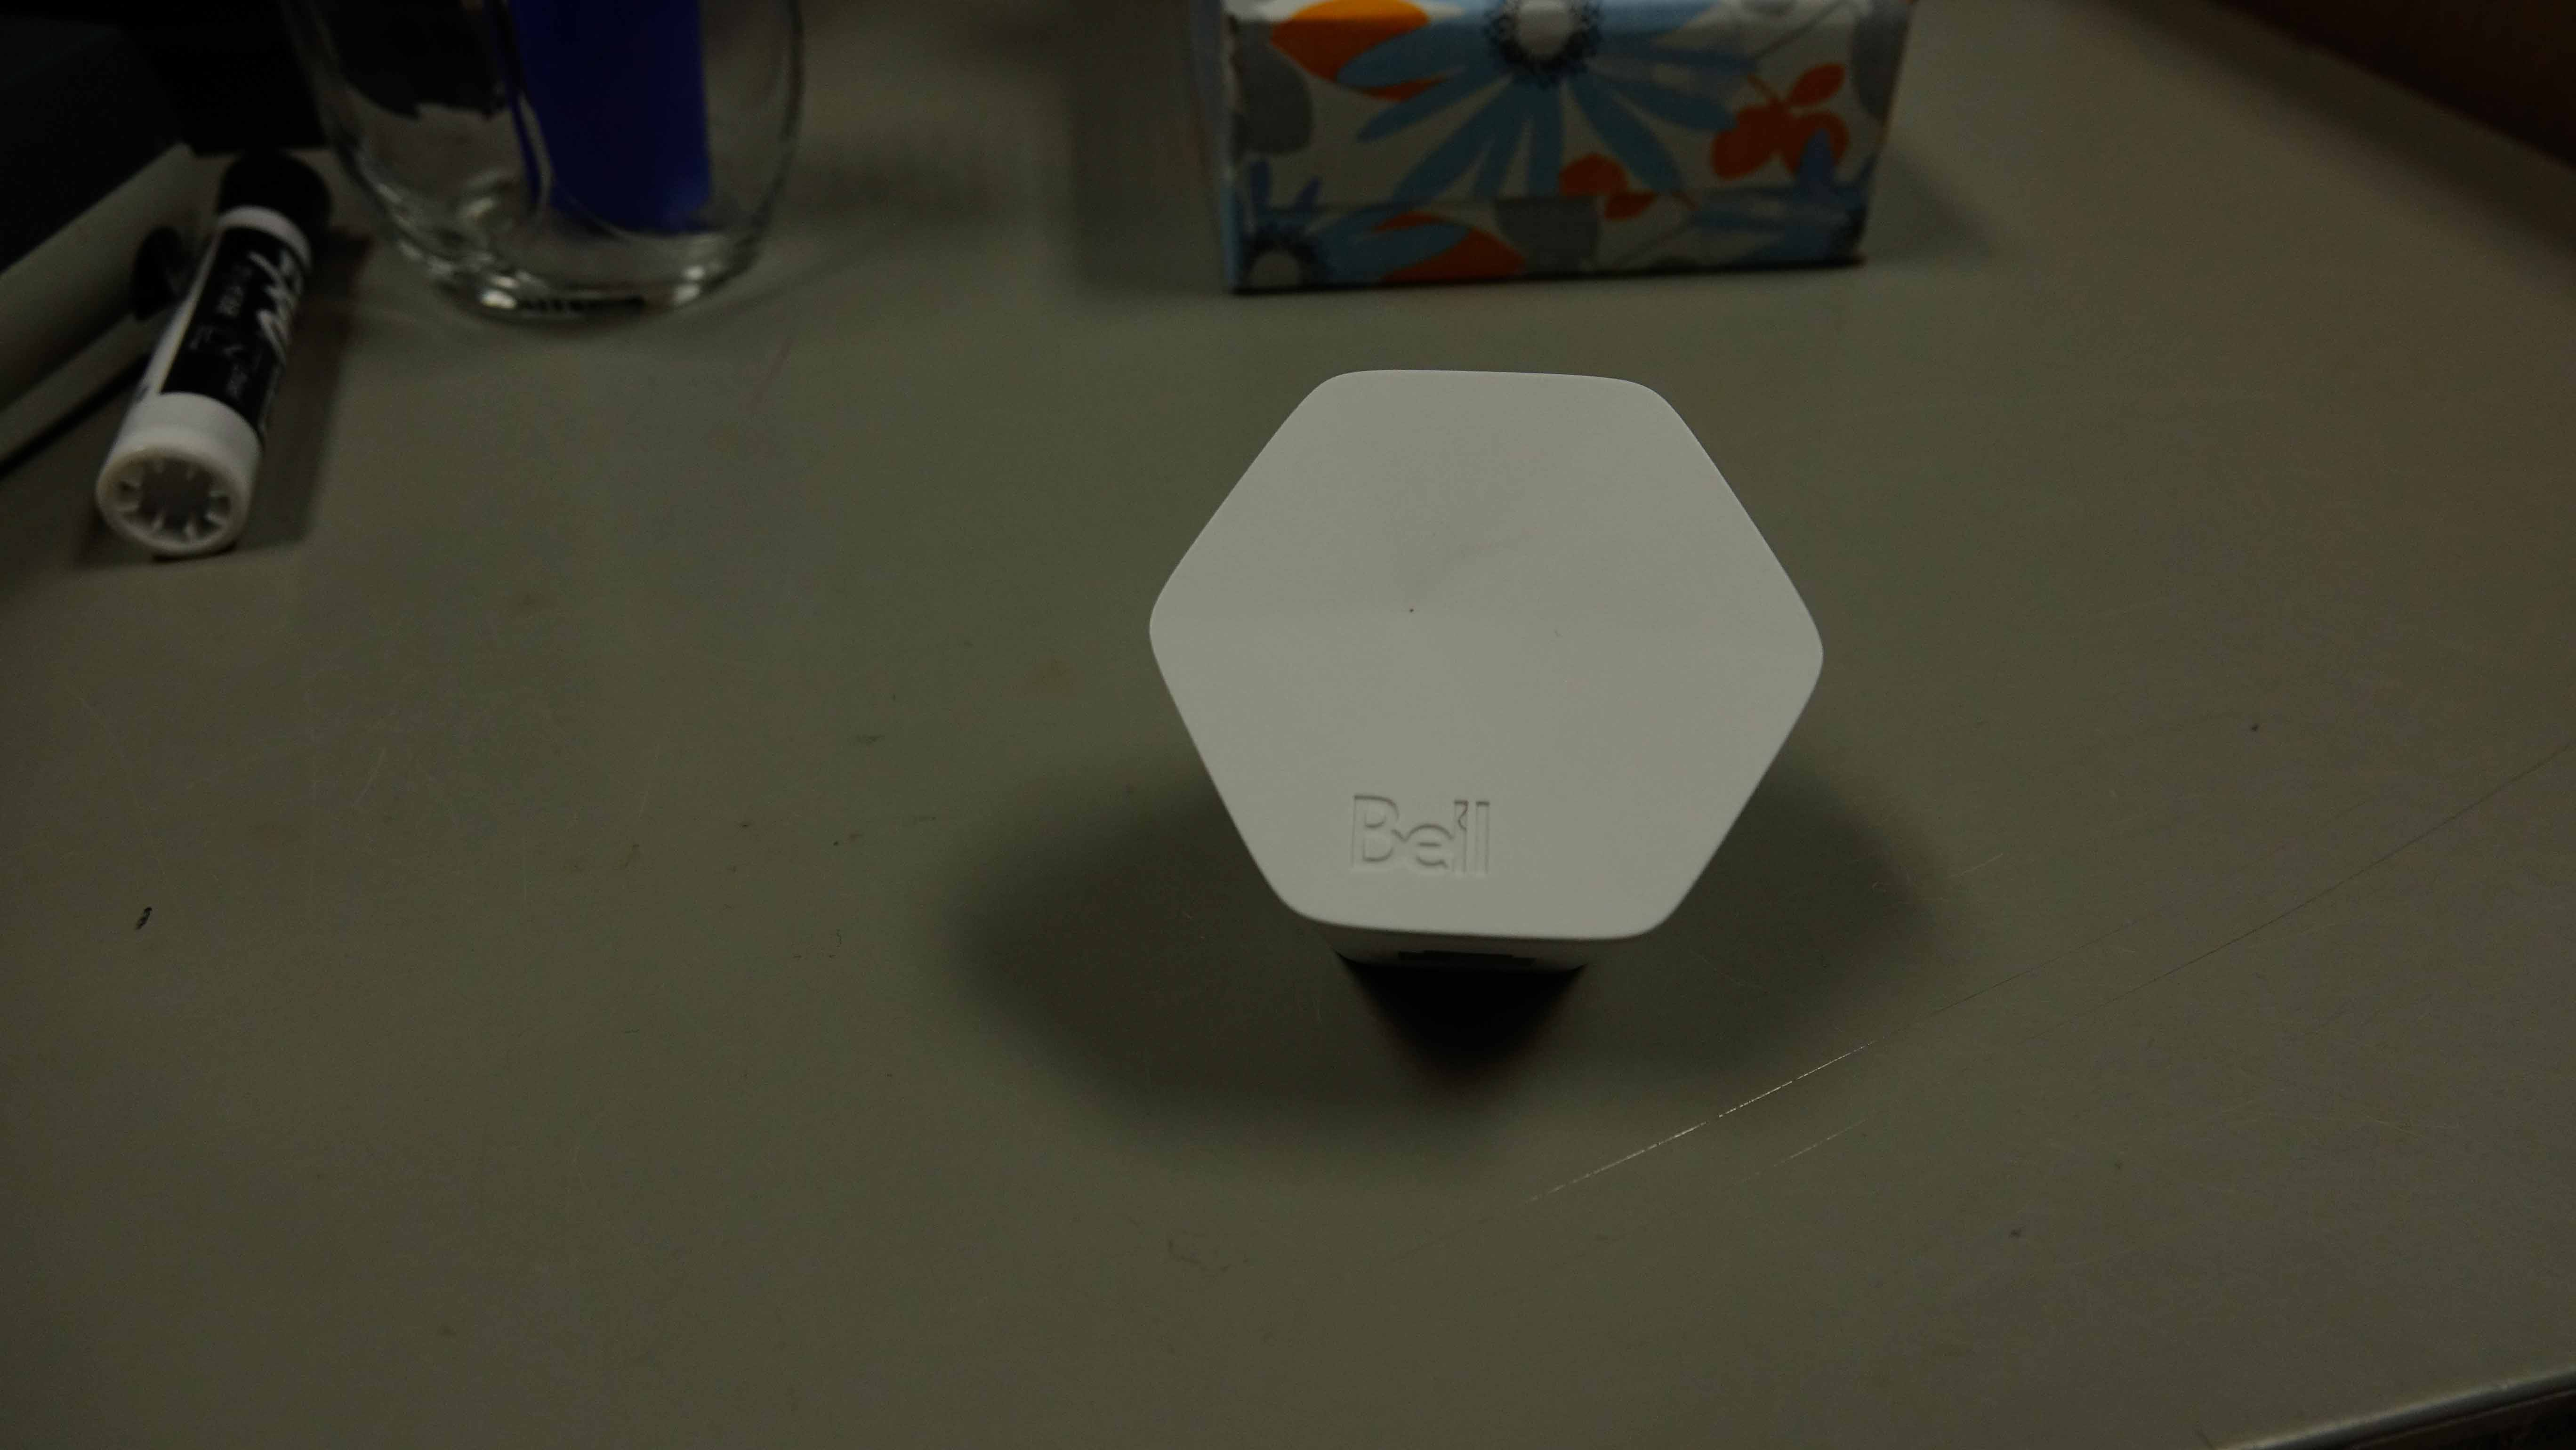pod: (1134, 359, 1835, 999)
